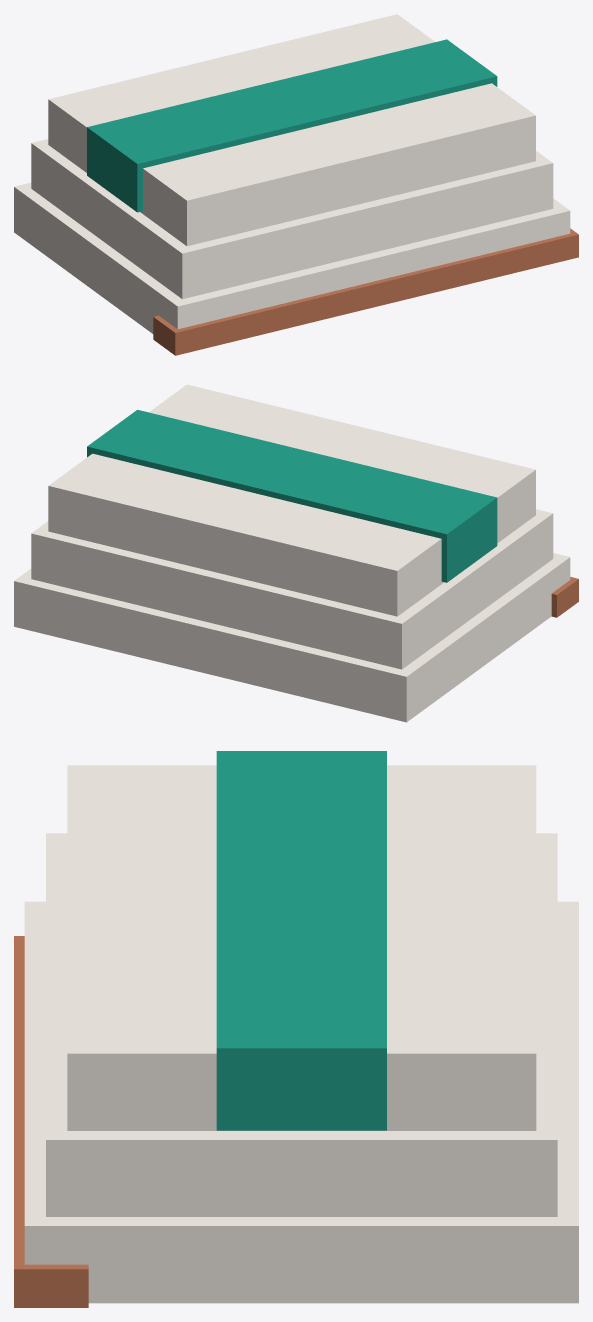
File: CatCafe_Camp_Desert_SpaTowel.glb
The picture shows the model from 3 angles, top to bottom: view 1: azimuth 30°, elevation 25°; view 2: azimuth 150°, elevation 25°; view 3: azimuth 270°, elevation 25°; orthographic projection. The views are drawn at different scales.
Parts seen in each view (by area): view 1: CatCafe_Camp_Desert_SpaTowel; view 2: CatCafe_Camp_Desert_SpaTowel; view 3: CatCafe_Camp_Desert_SpaTowel.
Part boxes in pixels (<box>): CatCafe_Camp_Desert_SpaTowel: <box>14,14,578,355</box>; CatCafe_Camp_Desert_SpaTowel: <box>14,384,578,722</box>; CatCafe_Camp_Desert_SpaTowel: <box>14,751,578,1307</box>.
Bounding box in the file's own units: 0.74 × 0.25 × 0.53.
1 material, 1 textured.
